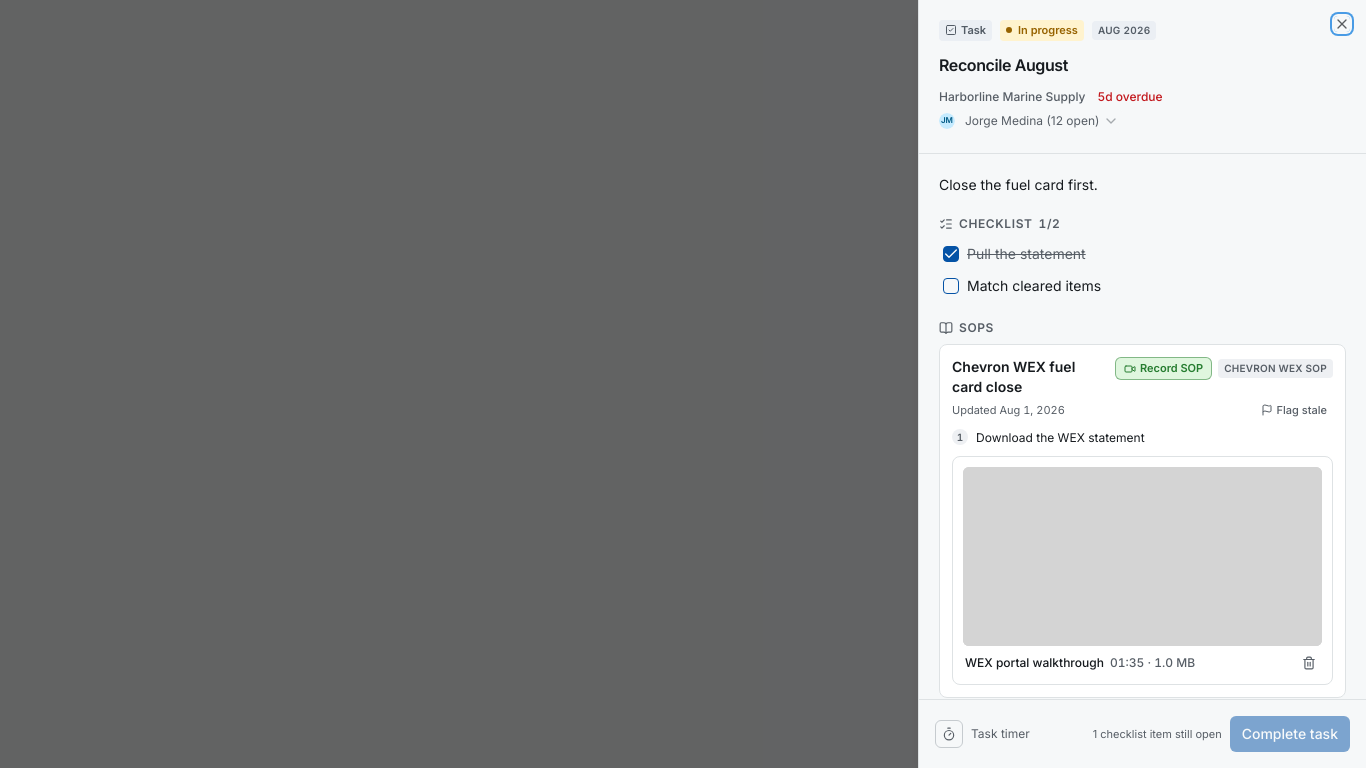
it: TaskDrawer › K2: Record SOP opens the recorder and native videos embed on the card
Note: The Record SOP affordance (can_edit_sops) and the embedded player.
Click the button with test id "sop-record-open" at (1164, 369), box top-left (1115, 357), bottom-right (1212, 380)
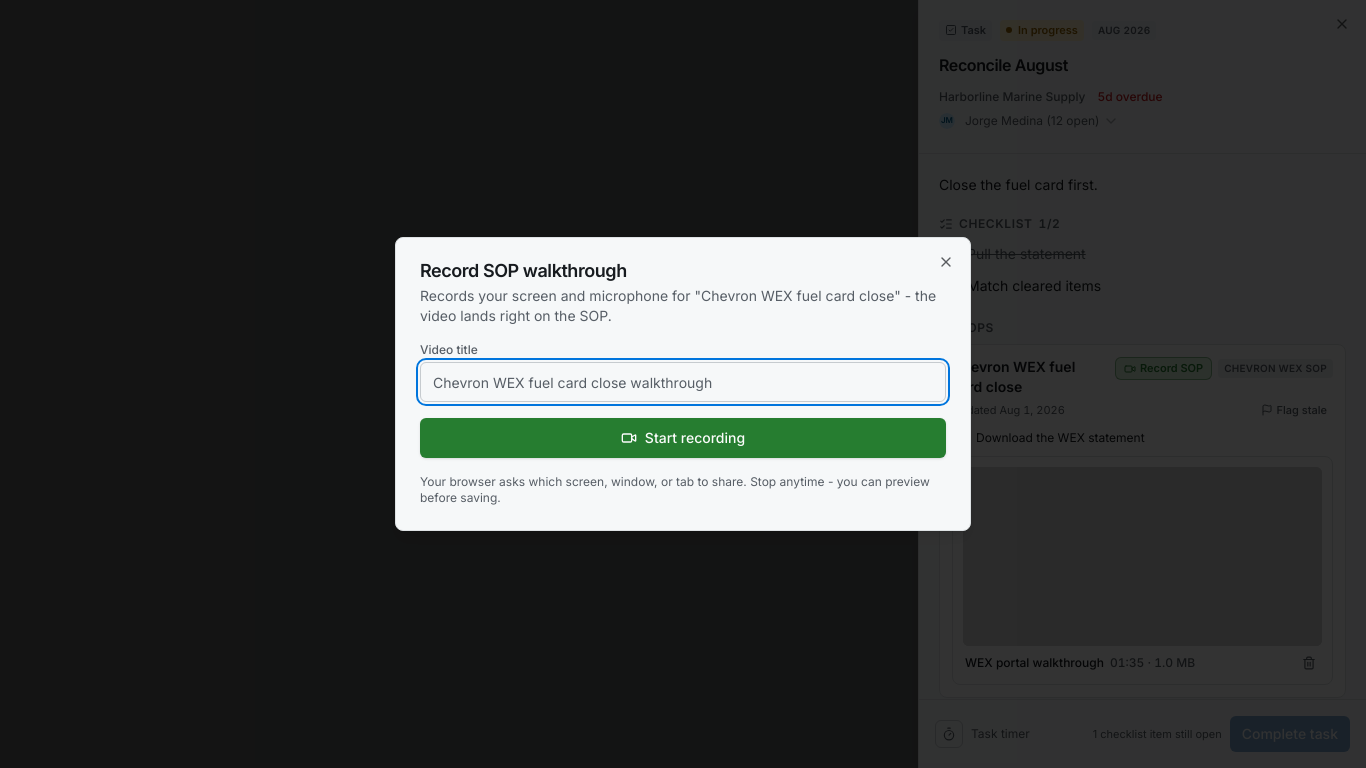
Check: the list item with test id "sop-video-77" shows "WEX portal walkthrough", box top-left (965, 655), bottom-right (1104, 670)
Check: the dialog with test id "sop-recorder-dialog" is shown, box top-left (395, 237), bottom-right (971, 531)
Check: the button with test id "sop-record-start" is shown, box top-left (420, 418), bottom-right (946, 458)
